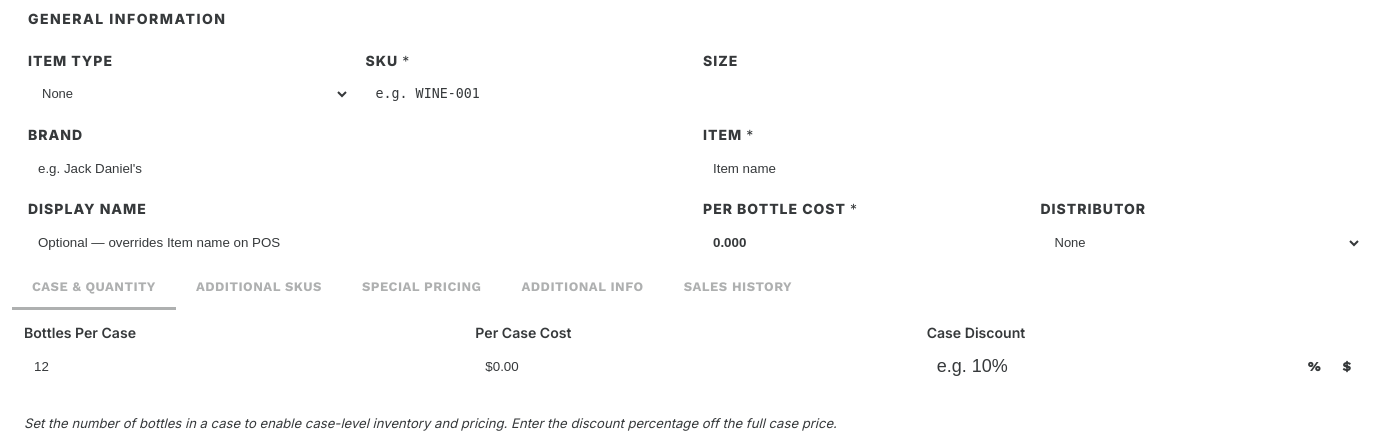
Test: ItemForm › switches to dollar mode when $ toggle is clicked
Check: the field labelled "Bottles Per Case" is shown, box [24,348,463,384]
Click the radio button named "Switch to dollar mode": {"x": 1347, "y": 366} [1331,351,1363,382]
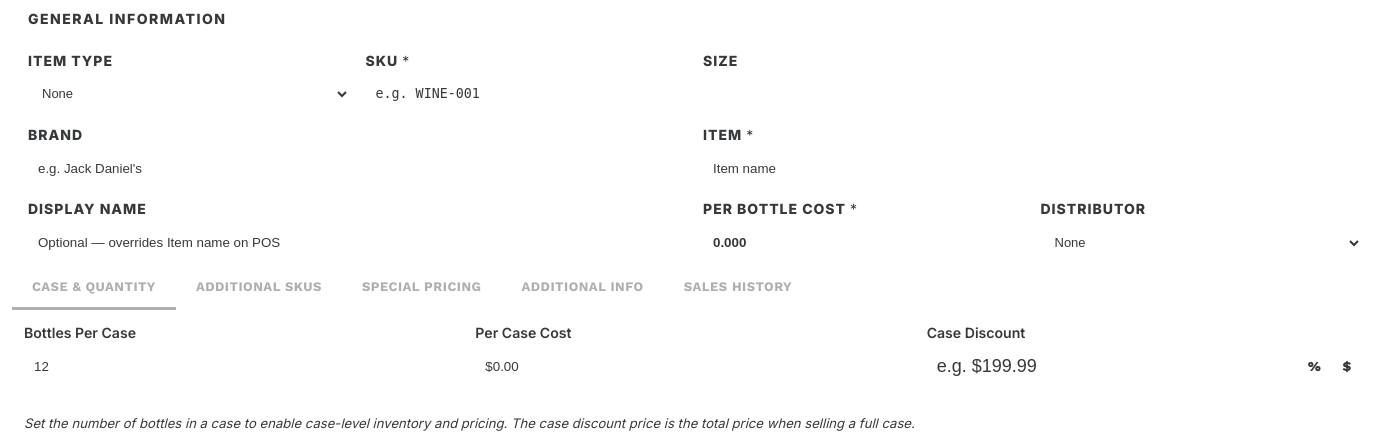
Check: the field named "Case Discount Price" is shown, box [927,348,1366,385]
